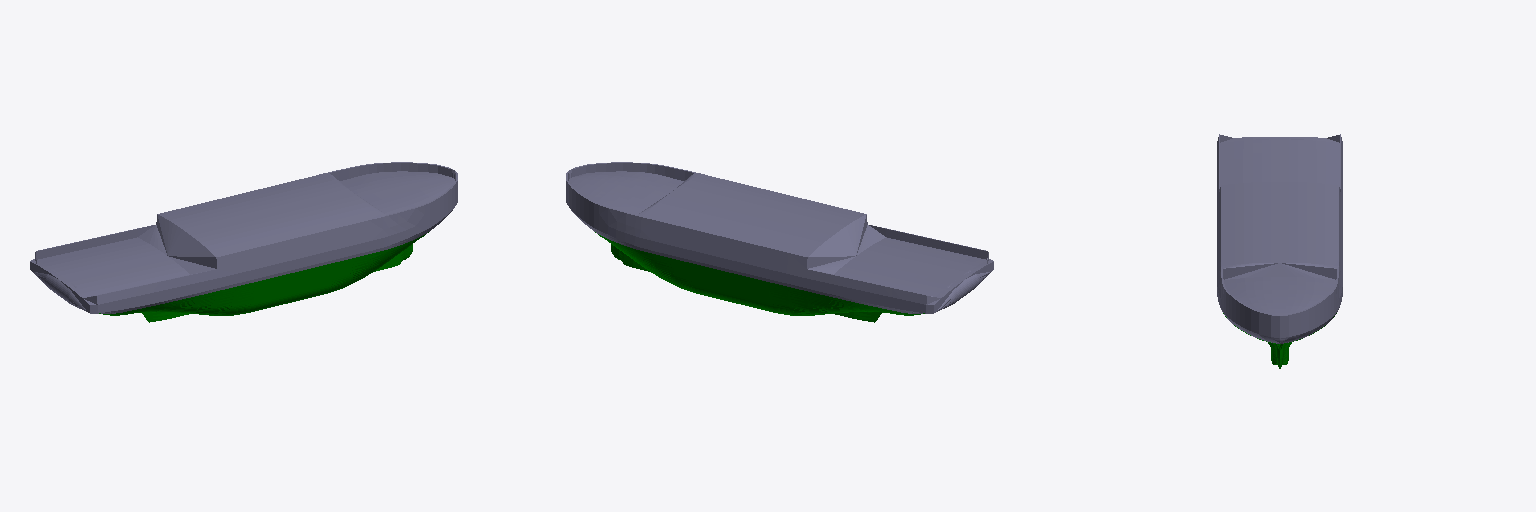
File: Буксир «Витязь».obj
3 renders of one model, left to right at view 1: azimuth 30°, elevation 25°; view 2: azimuth 150°, elevation 25°; view 3: azimuth 270°, elevation 25°, orthographic.
Bounding box in the file's own units: 51.21 × 9.9 × 14.